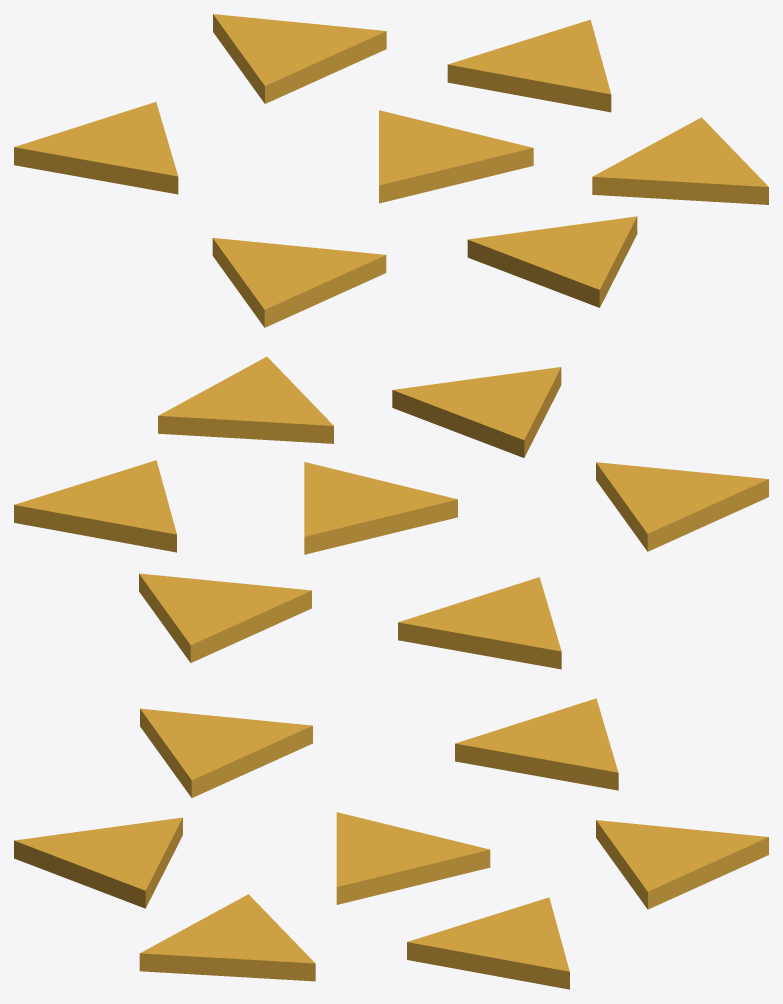
Rendered from pineappletopping.fbx.
3 renders of one model, top to bottom at view 1: azimuth 30°, elevation 25°; view 2: azimuth 150°, elevation 25°; view 3: azimuth 270°, elevation 25°, orthographic.
Visible parts, largest first — view 1: Cylinder.012, Cylinder.010, Cylinder.009, Cylinder.008, Cylinder.013, Cylinder.011, Cylinder.007; view 2: Cylinder.012, Cylinder.009, Cylinder.010, Cylinder.008, Cylinder.011, Cylinder.013, Cylinder.007; view 3: Cylinder.012, Cylinder.010, Cylinder.009, Cylinder.008, Cylinder.011, Cylinder.013, Cylinder.007.
Boxes of the visible parts, <box> form: Cylinder.012: <box>592,117,768,204</box>; Cylinder.010: <box>212,238,386,327</box>; Cylinder.009: <box>213,14,386,103</box>; Cylinder.008: <box>467,216,637,307</box>; Cylinder.013: <box>447,19,611,112</box>; Cylinder.011: <box>14,102,178,194</box>; Cylinder.007: <box>379,110,533,203</box>; Cylinder.012: <box>158,356,333,443</box>; Cylinder.009: <box>139,573,311,662</box>; Cylinder.010: <box>596,462,768,551</box>; Cylinder.008: <box>392,367,561,457</box>; Cylinder.011: <box>398,577,561,669</box>; Cylinder.013: <box>14,460,176,552</box>; Cylinder.007: <box>304,462,457,554</box>; Cylinder.012: <box>139,894,315,981</box>; Cylinder.010: <box>140,708,312,797</box>; Cylinder.009: <box>596,820,768,909</box>; Cylinder.008: <box>14,817,182,908</box>; Cylinder.011: <box>455,698,618,790</box>; Cylinder.013: <box>407,897,569,989</box>; Cylinder.007: <box>336,812,490,904</box>.
Bounding box in the file's own units: 284 × 8.69 × 332.
